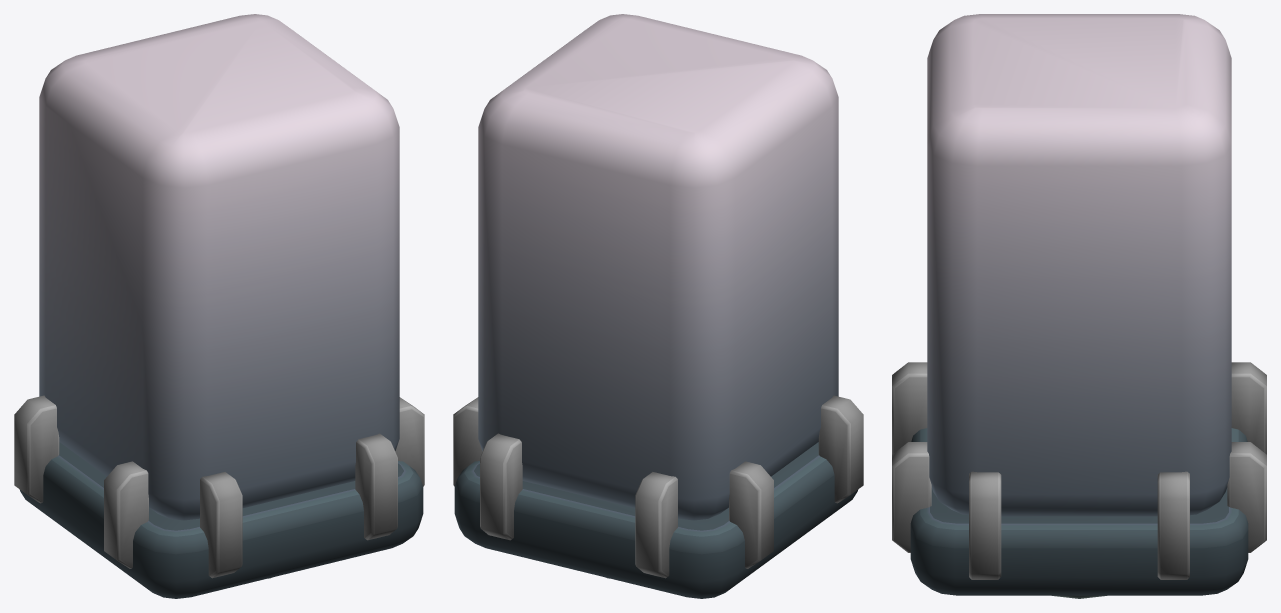
File: sp_food_grower_can_carrot.fbx
3 views of the same model, side by side, from view 1: azimuth 30°, elevation 25°; view 2: azimuth 150°, elevation 25°; view 3: azimuth 270°, elevation 25° (orthographic). The views are drawn at different scales.
Parts seen in each view (by area): view 1: food_canister_carrot; view 2: food_canister_carrot; view 3: food_canister_carrot.
Boxes of the visible parts, bbox=[...] form: food_canister_carrot: bbox=[14, 14, 424, 598]; food_canister_carrot: bbox=[453, 14, 863, 598]; food_canister_carrot: bbox=[892, 14, 1266, 598].
Bounding box in the file's own units: 52.23 × 78.42 × 52.23.
